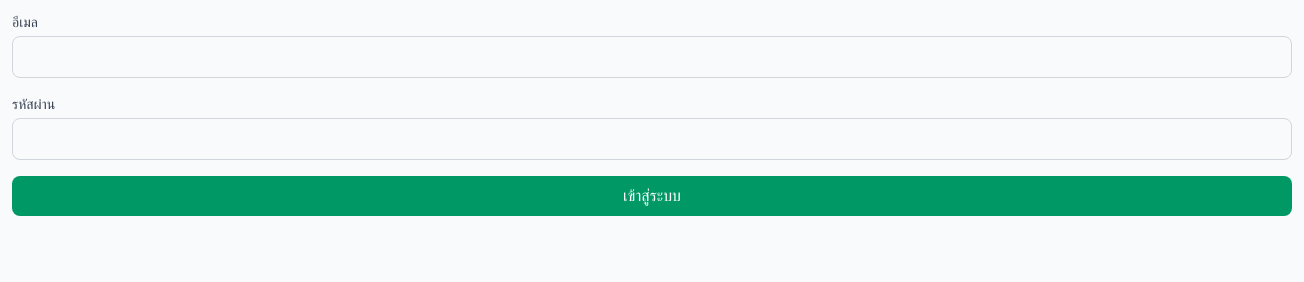
it: <LoginForm /> › validates required fields without calling the API
Step 1. Click the button "เข้าสู่ระบบ" → (652, 196), box [12,176,1292,216]
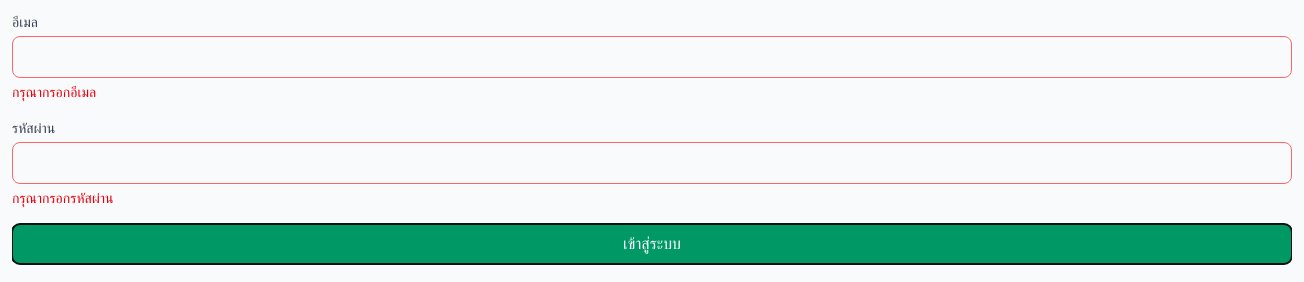
Now the text "กรุณากรอกอีเมล" is shown, box [12,84,96,100]
Now the text "กรุณากรอกรหัสผ่าน" is shown, box [12,190,113,206]
